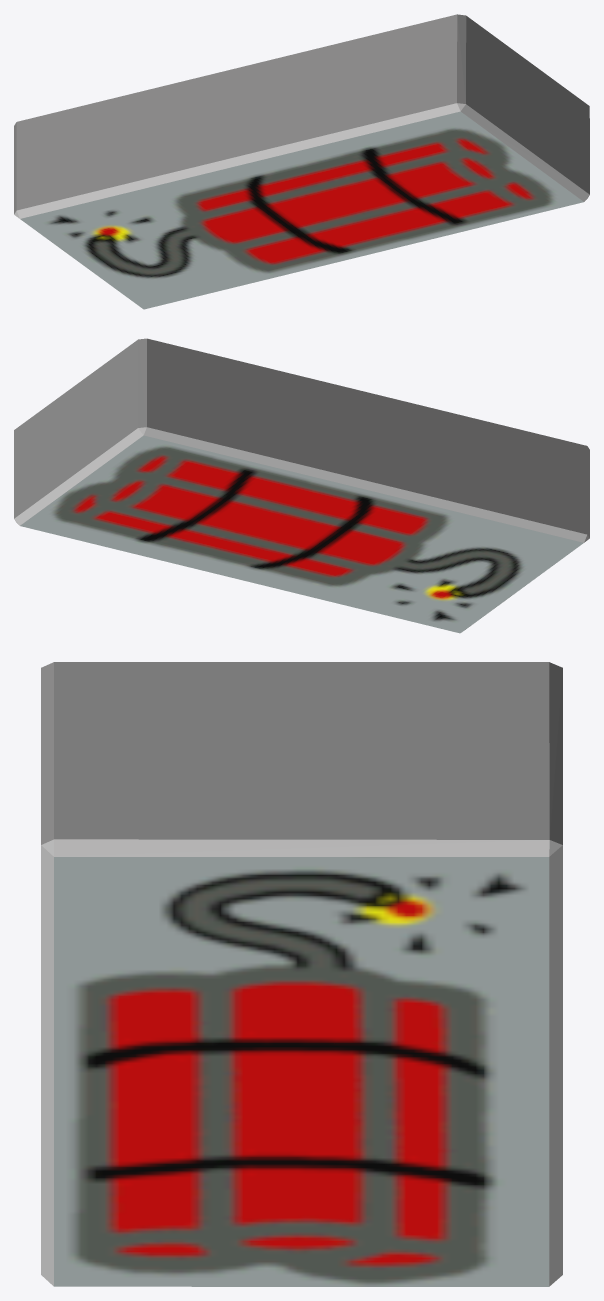
3 views of the same model, one above another, from view 1: azimuth 30°, elevation 25°; view 2: azimuth 150°, elevation 25°; view 3: azimuth 270°, elevation 25° (orthographic). The views are drawn at different scales.
Parts seen in each view (by area): view 1: 004_L_306900_GY; view 2: 004_L_306900_GY; view 3: 004_L_306900_GY.
Part boxes in pixels (x1,y1,x2,y2): 004_L_306900_GY: (14, 14, 589, 309); 004_L_306900_GY: (14, 338, 589, 633); 004_L_306900_GY: (41, 662, 562, 1286).
Size of the model in its own units: 1.6 by 0.32 by 0.8.
Materials: 3 (2 with a texture image).
